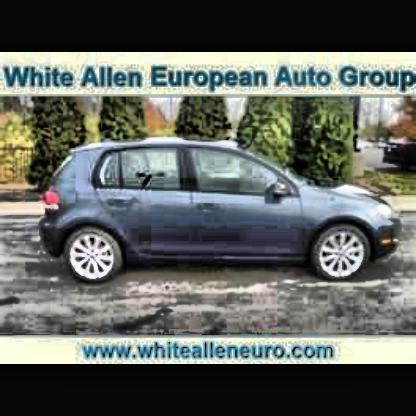Volkswagen Golf Hatchback 2012: (43, 134, 399, 290)
